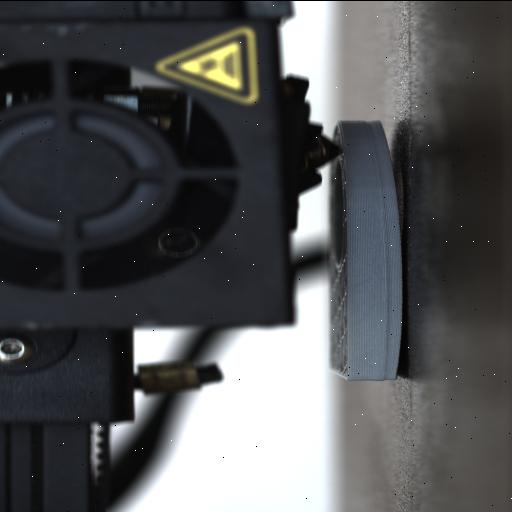warp: (364, 112, 404, 206), (375, 325, 409, 387)
